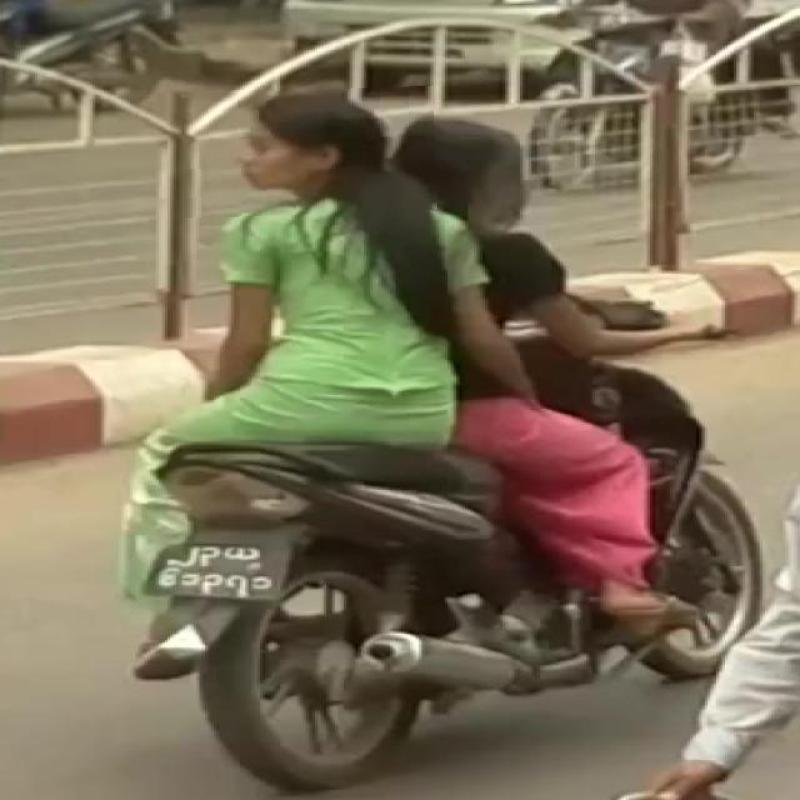nohelmet: (182, 88, 436, 216)
